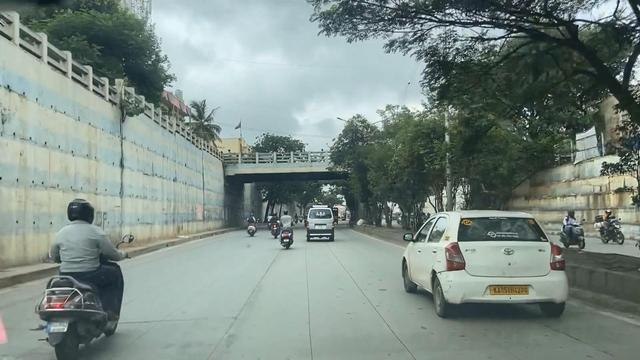LMV: (406, 196, 578, 329), (53, 201, 130, 360)
